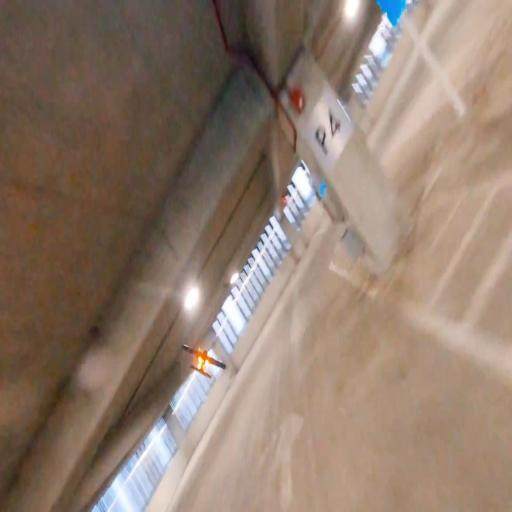uav: (180, 338, 227, 384)
